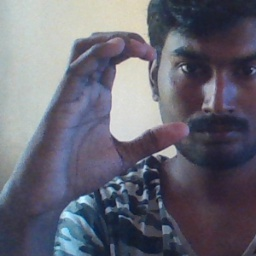C: (62, 28, 192, 167)
